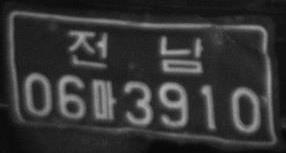0: (228, 84, 262, 135), (23, 70, 54, 119)
1: (194, 83, 222, 131)
3: (122, 78, 154, 129)
6: (55, 73, 88, 122)
9: (156, 80, 190, 130)
마: (88, 77, 118, 122)
전남_D: (66, 27, 206, 75)
